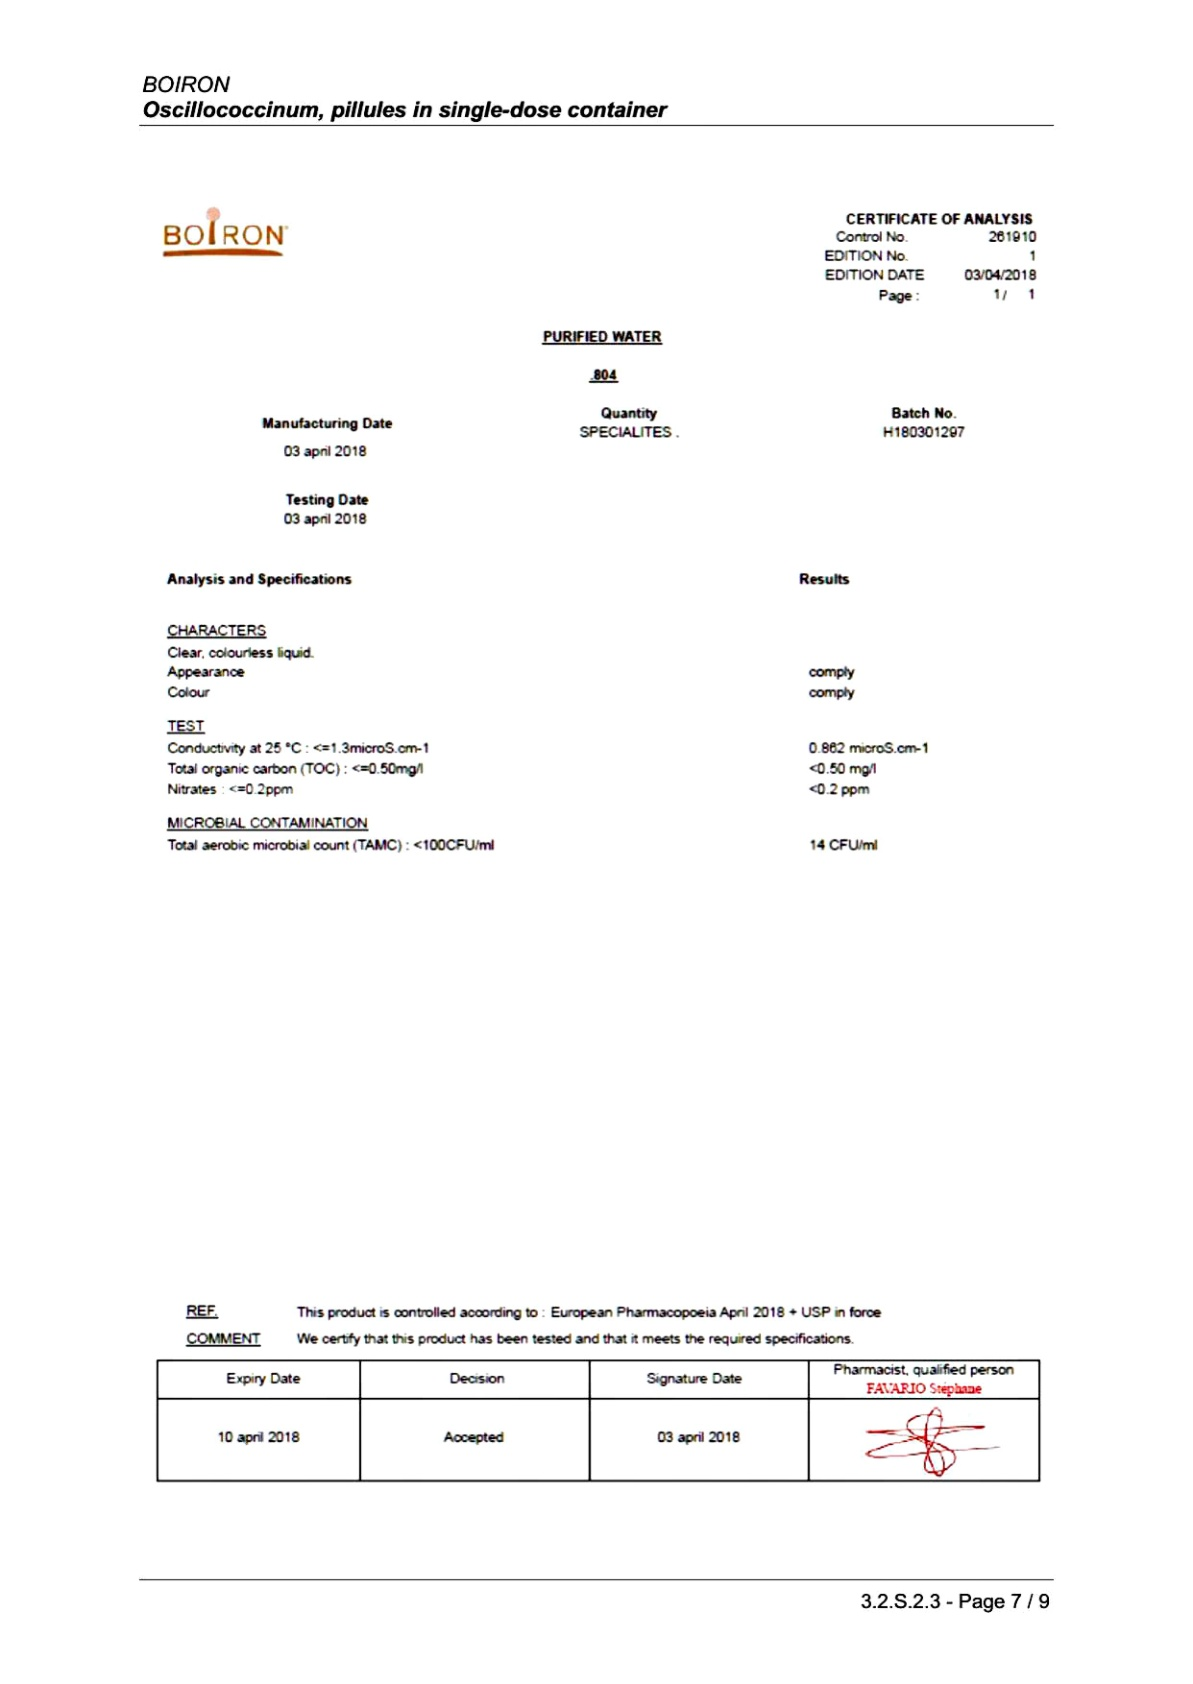full_lined: (155, 1359, 1041, 1483)
nolines: (161, 402, 970, 857)
